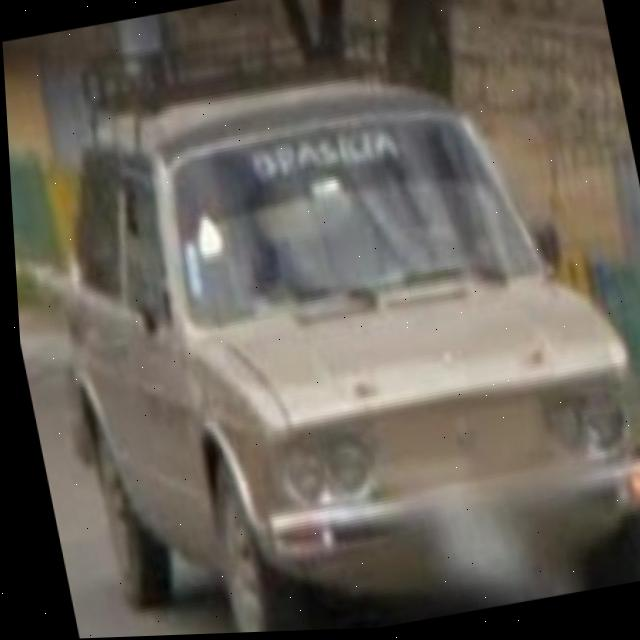vehicle: (13, 20, 640, 640)
